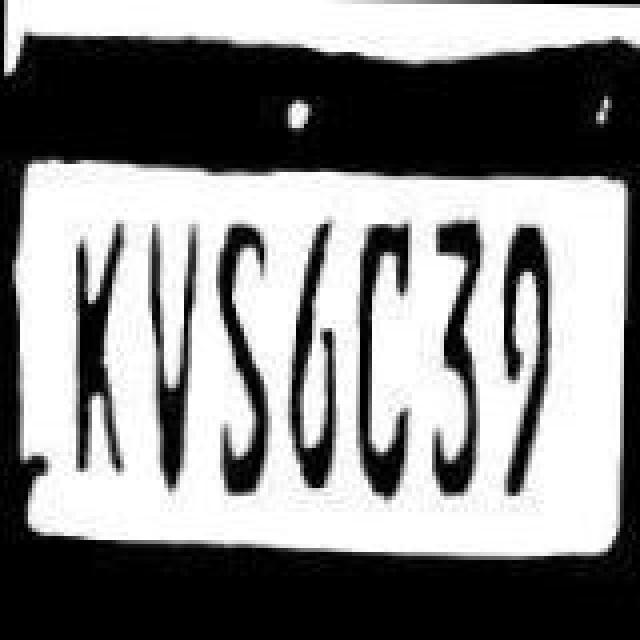3: (426, 214, 494, 510)
6: (278, 214, 354, 522)
9: (496, 218, 568, 526)
C: (358, 216, 426, 516)
K: (60, 194, 140, 502)
S: (202, 210, 278, 514)
V: (140, 202, 204, 498)
